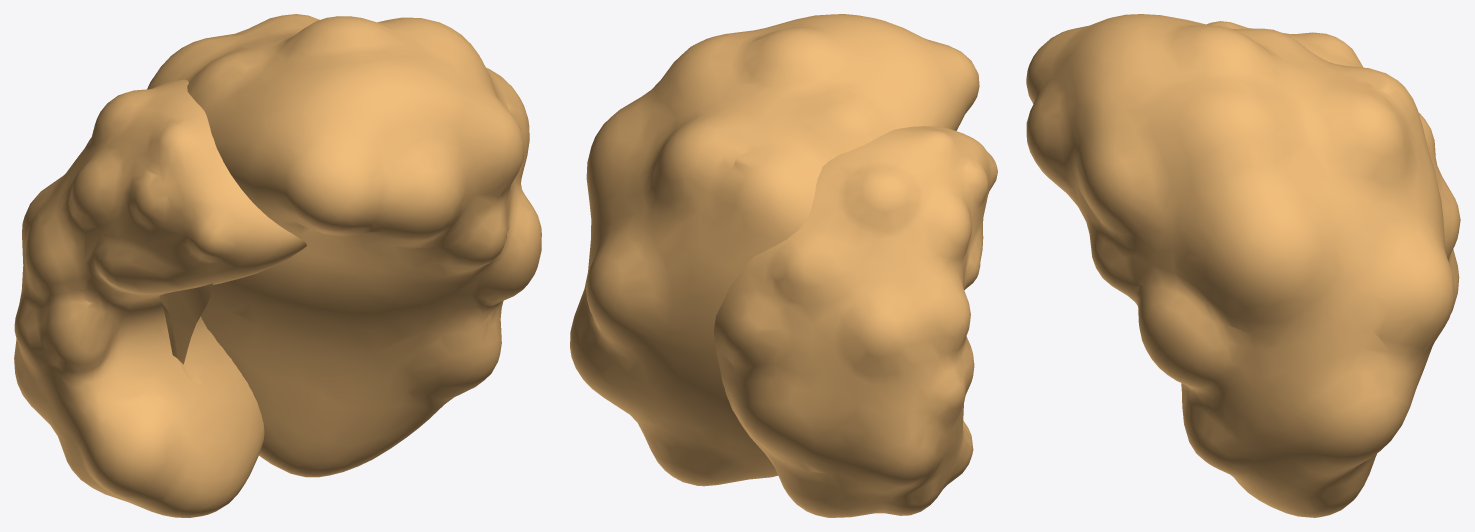
The model's file is hair-008-90d9de7d.glb.
The picture shows the model from 3 angles, left to right: view 1: azimuth 30°, elevation 25°; view 2: azimuth 150°, elevation 25°; view 3: azimuth 270°, elevation 25°; orthographic projection. The views are drawn at different scales.
Parts seen in each view (by area): view 1: Geo_Female_White_Hair.011; view 2: Geo_Female_White_Hair.011; view 3: Geo_Female_White_Hair.011.
Boxes of the visible parts, x1,y1,x2,y2 form: Geo_Female_White_Hair.011: [14, 14, 541, 517]; Geo_Female_White_Hair.011: [570, 14, 997, 517]; Geo_Female_White_Hair.011: [1026, 14, 1460, 517].
Bounding box in the file's own units: 2.57 × 2.59 × 2.24.
